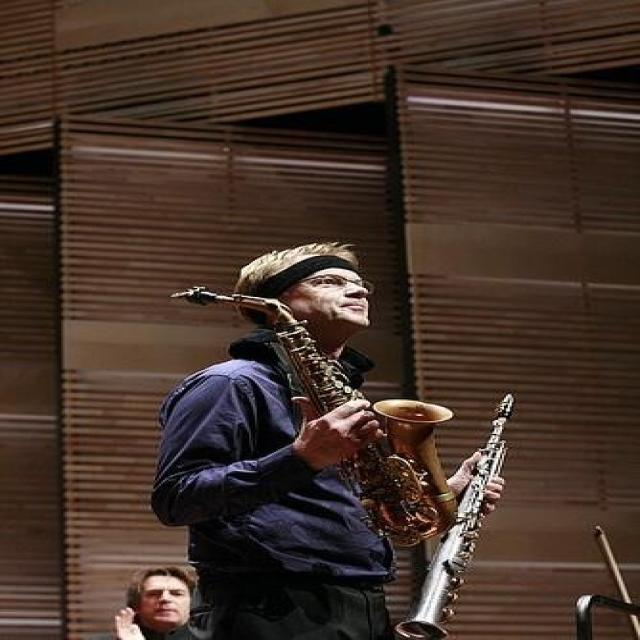saxophone: (180, 278, 474, 537)
